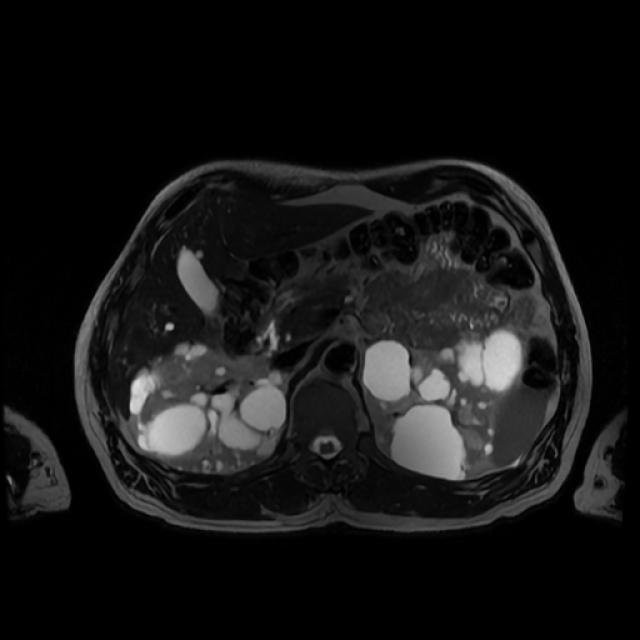sag: (131, 345, 288, 475)
sol: (364, 329, 522, 479)
